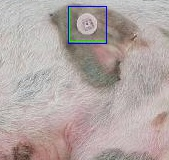text: (69, 6, 106, 41)
